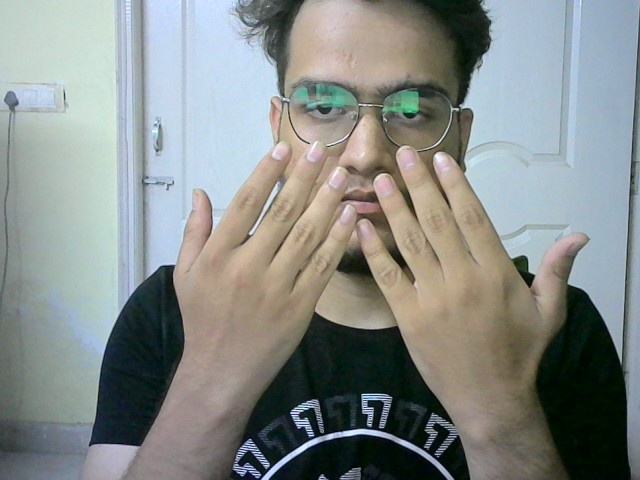Thank You: (170, 135, 590, 375)
